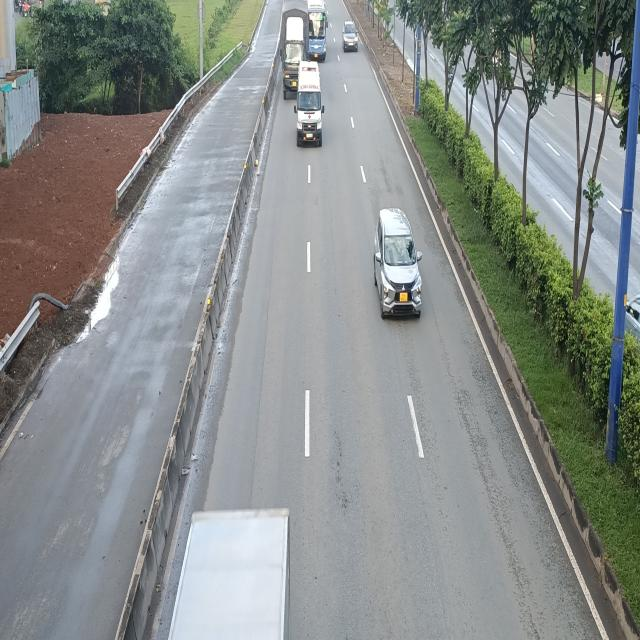car: (376, 209, 424, 321), (342, 21, 360, 52)
coach: (304, 0, 329, 62)
van: (293, 64, 324, 148)
